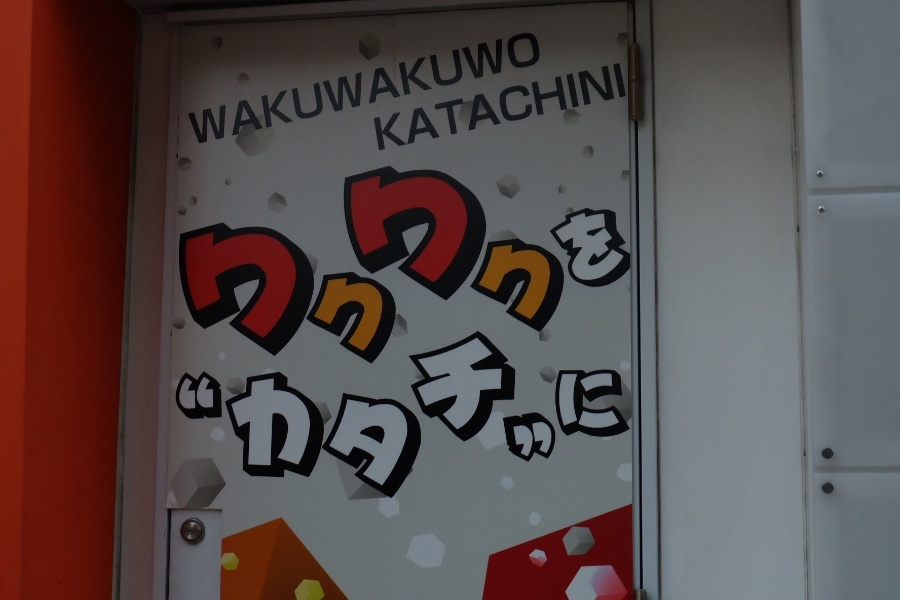text: (177, 307, 192, 518), (193, 307, 208, 518), (209, 307, 224, 518), (225, 307, 240, 518), (241, 307, 256, 518), (257, 307, 272, 518), (273, 307, 288, 518), (289, 307, 304, 518), (305, 307, 320, 518), (321, 307, 336, 518), (337, 307, 352, 518), (353, 307, 368, 518), (369, 307, 384, 518), (385, 307, 400, 518), (401, 307, 416, 518), (417, 307, 432, 518), (433, 307, 448, 518), (449, 307, 464, 518), (465, 307, 480, 518), (481, 307, 496, 518), (497, 307, 512, 518), (513, 307, 528, 518), (529, 307, 544, 518), (545, 307, 560, 518), (561, 307, 576, 518), (577, 307, 592, 518), (593, 307, 608, 518), (609, 307, 624, 518), (353, 137, 368, 326), (369, 137, 384, 326), (385, 137, 400, 326), (401, 137, 416, 326), (417, 137, 432, 326), (433, 137, 448, 326), (449, 137, 464, 326), (465, 137, 480, 326), (481, 137, 495, 326), (177, 196, 192, 365), (193, 196, 208, 365), (209, 196, 224, 365), (225, 196, 240, 365), (241, 196, 256, 365), (257, 196, 272, 365), (273, 196, 288, 365), (289, 196, 304, 365), (305, 196, 320, 365), (340, 137, 352, 326), (193, 29, 208, 145), (209, 29, 224, 145), (225, 29, 240, 145), (241, 29, 256, 145), (257, 29, 272, 145), (273, 29, 288, 145), (289, 29, 304, 145), (305, 29, 320, 145), (321, 29, 336, 145), (337, 29, 352, 145), (353, 29, 368, 145), (369, 29, 384, 145), (385, 29, 400, 145), (401, 29, 416, 145), (417, 29, 432, 145), (433, 29, 448, 145), (449, 29, 464, 145), (465, 29, 480, 145), (481, 29, 496, 145), (497, 29, 512, 145), (513, 29, 528, 145), (497, 231, 512, 347), (513, 231, 528, 347), (529, 231, 544, 347), (545, 231, 560, 347), (561, 231, 576, 347), (321, 196, 331, 365), (529, 29, 543, 145), (337, 267, 352, 370), (353, 267, 368, 370), (369, 267, 384, 370), (385, 267, 400, 370), (561, 199, 576, 296), (577, 199, 592, 296), (593, 199, 608, 296), (609, 199, 624, 296), (546, 199, 560, 296), (385, 62, 400, 152), (401, 62, 416, 152), (417, 62, 432, 152), (433, 62, 448, 152), (449, 62, 464, 152), (465, 62, 480, 152), (481, 62, 496, 152), (497, 62, 512, 152), (513, 62, 528, 152), (529, 62, 544, 152), (545, 62, 560, 152), (561, 62, 576, 152), (577, 62, 592, 152), (593, 62, 608, 152), (609, 62, 624, 152), (625, 307, 631, 518), (324, 267, 336, 370), (487, 231, 496, 347), (374, 62, 384, 152), (401, 267, 409, 370), (625, 199, 633, 296), (187, 29, 192, 145), (577, 231, 581, 347), (174, 307, 176, 518), (625, 62, 627, 152), (175, 196, 176, 365)
